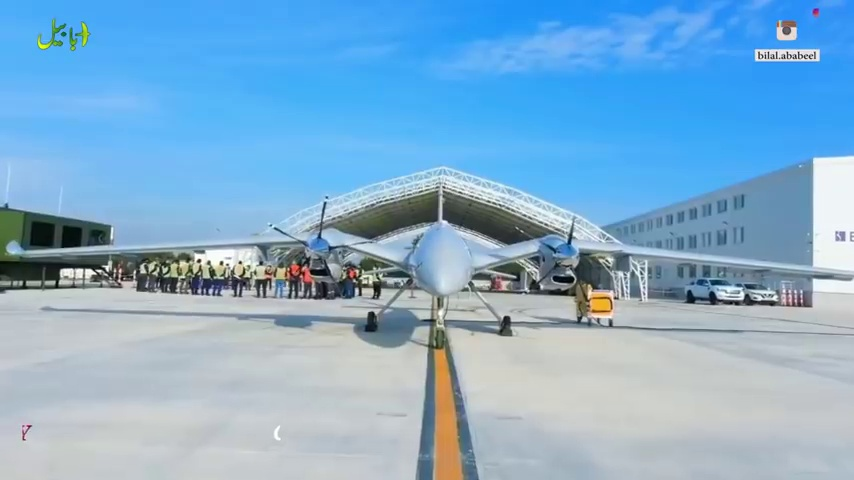military drone: (5, 181, 854, 348)
